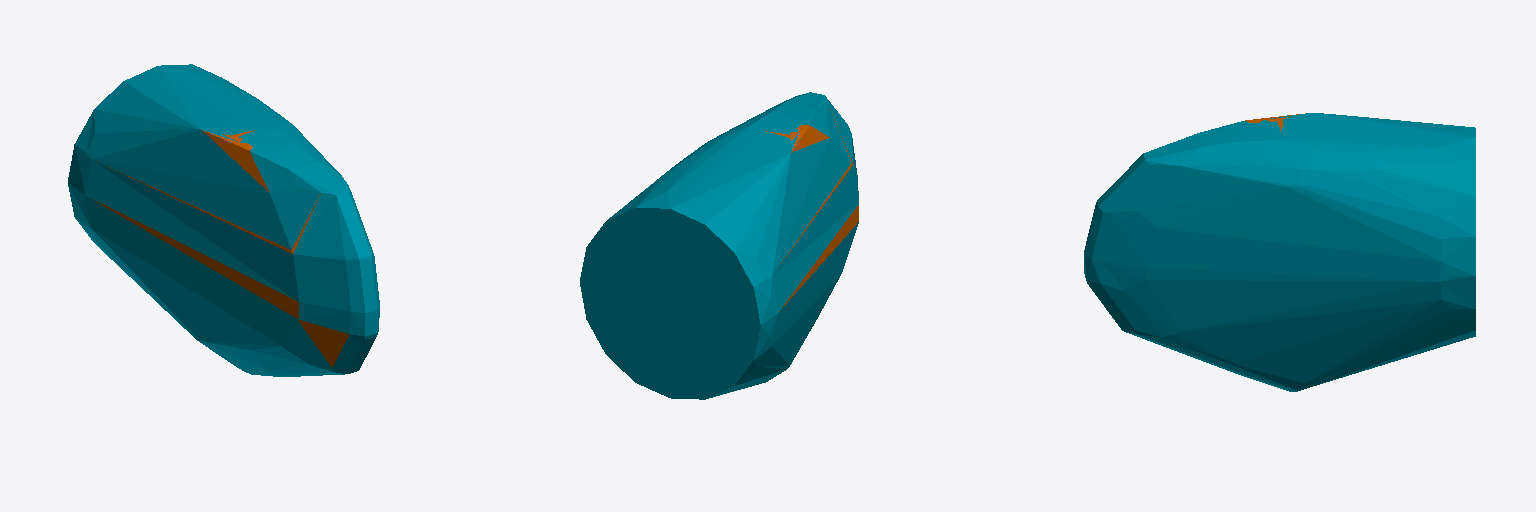
Rendered from palm_r_col.obj.
3 views of the same model, side by side, from view 1: azimuth 30°, elevation 25°; view 2: azimuth 150°, elevation 25°; view 3: azimuth 270°, elevation 25° (orthographic).
Bounding box in the file's own units: 0.09 × 0.1187 × 0.1684.